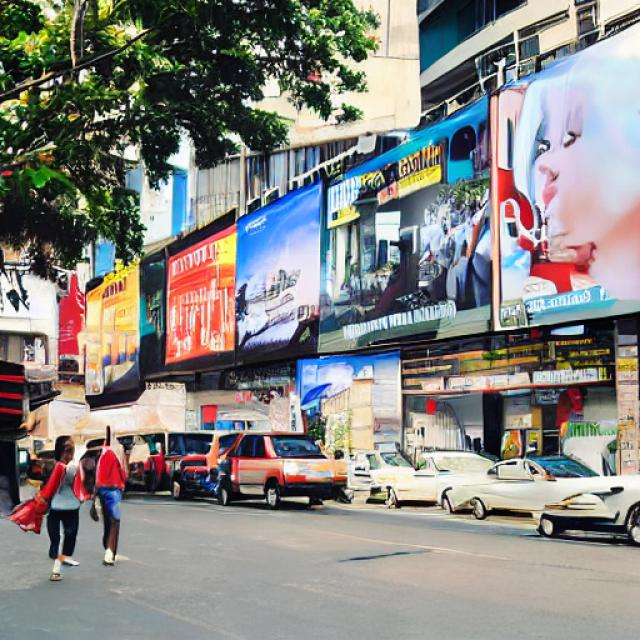Billboard: (491, 21, 640, 336), (320, 89, 490, 358), (233, 179, 317, 362), (167, 218, 234, 374), (83, 257, 138, 394)
